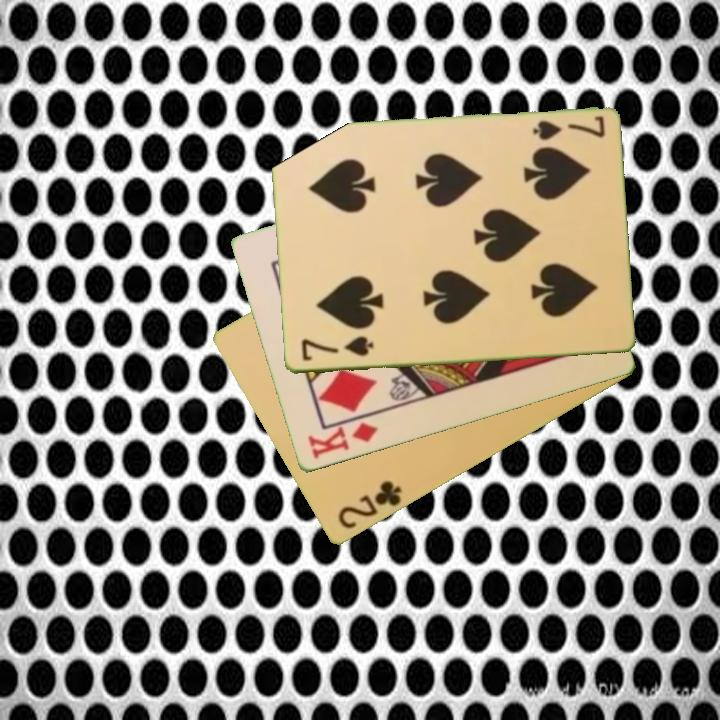2c: (334, 477, 405, 533)
7s: (297, 333, 376, 364), (529, 113, 607, 144)
Kd: (304, 419, 381, 463)
